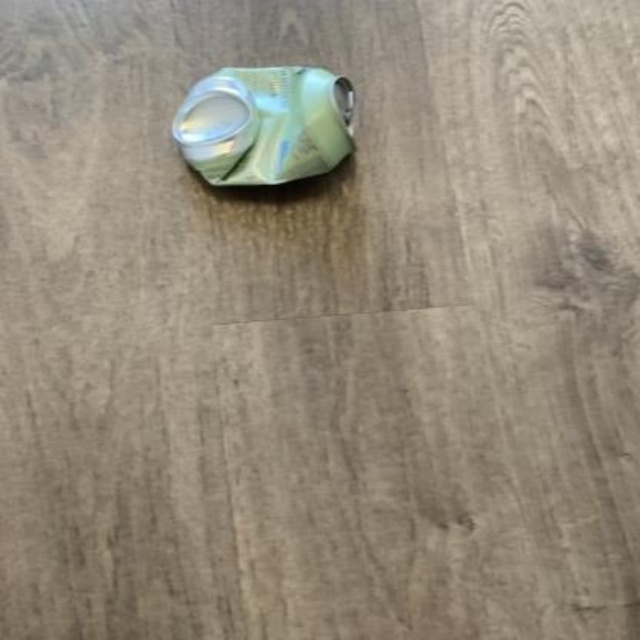trash: (172, 66, 352, 185)
